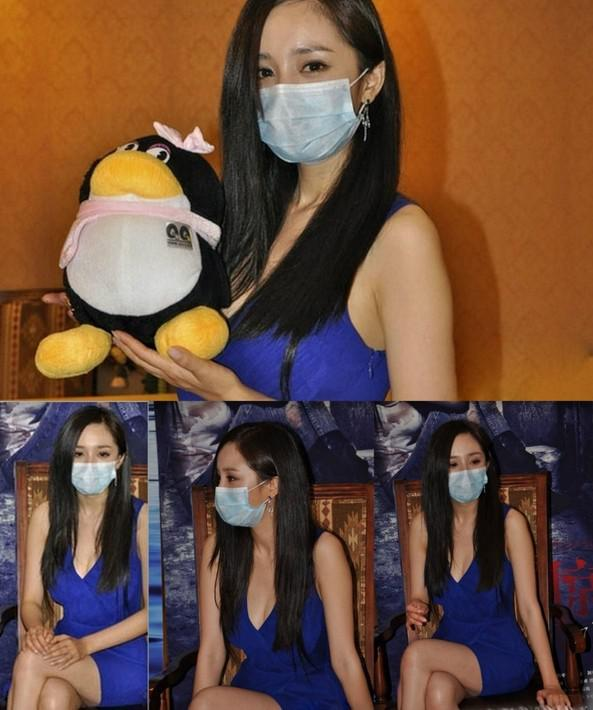OK: (239, 37, 360, 158), (213, 461, 285, 531), (68, 441, 125, 496), (443, 449, 495, 501)
